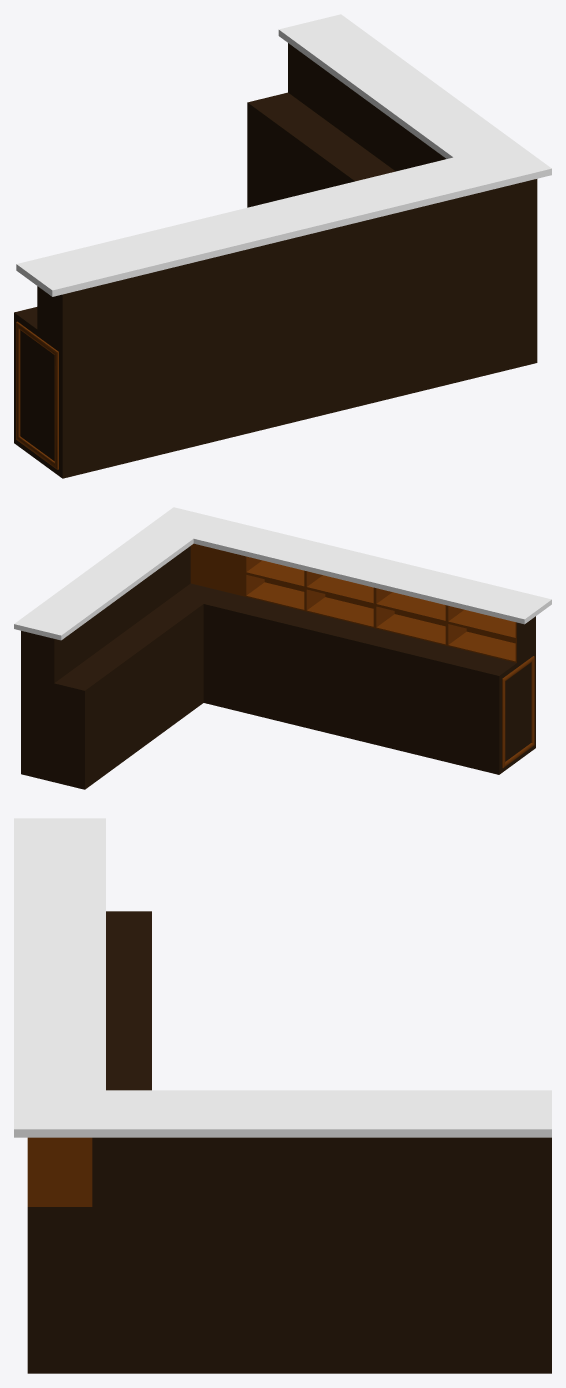
The model's file is Barra.fbx.
3 views of the same model, one above another, from view 1: azimuth 30°, elevation 25°; view 2: azimuth 150°, elevation 25°; view 3: azimuth 270°, elevation 25° (orthographic). The views are drawn at different scales.
Parts seen in each view (by area): view 1: Cube.006, Cube.002, Cube.007, Cube.009, Cube, Cube.001, Cube.008; view 2: Cube.006, Cube.002, Cube.007, Cube.009, Cube, Cube.001, Cube.008; view 3: Cube.002, Cube.001, Cube, Cube.009, Cube.006, Cube.008.
Boxes of the visible parts, left/top/right/bottom form: Cube.006: left=14, top=253, right=452, bottom=478; Cube.002: left=247, top=92, right=537, bottom=383; Cube.007: left=37, top=207, right=421, bottom=347; Cube.009: left=16, top=157, right=489, bottom=296; Cube: left=278, top=14, right=551, bottom=189; Cube.001: left=288, top=43, right=445, bottom=171; Cube.008: left=421, top=179, right=537, bottom=260; Cube.006: left=203, top=591, right=535, bottom=774; Cube.002: left=21, top=583, right=220, bottom=789; Cube.007: left=245, top=556, right=535, bottom=662; Cube.009: left=193, top=518, right=551, bottom=624; Cube: left=14, top=507, right=220, bottom=640; Cube.001: left=21, top=546, right=190, bottom=683; Cube.008: left=190, top=543, right=244, bottom=596; Cube.002: left=27, top=1207, right=551, bottom=1373; Cube.001: left=92, top=1137, right=551, bottom=1206; Cube: left=14, top=1090, right=551, bottom=1137; Cube.009: left=14, top=818, right=105, bottom=1090; Cube.006: left=106, top=911, right=151, bottom=1090; Cube.008: left=27, top=1137, right=92, bottom=1206.
Size of the model in its own units: 1600 by 600 by 1170.
